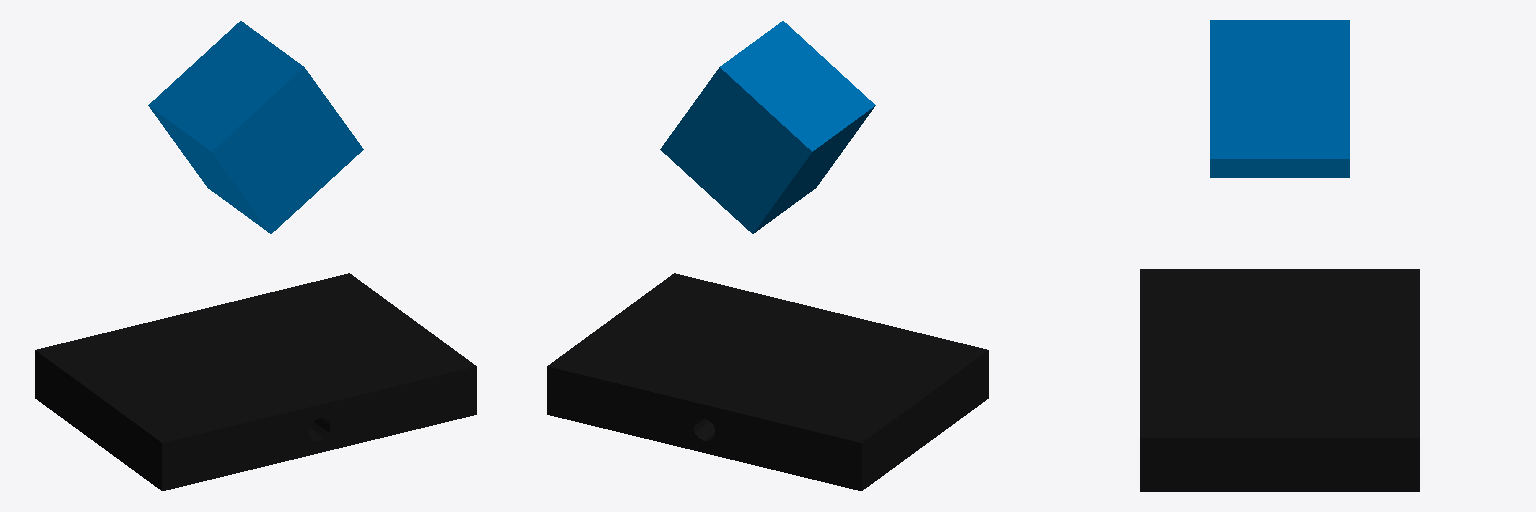
The robot description file, URDF, robot "Sidekick":
<?xml version="1.0" encoding="utf-8"?>
<!-- This URDF was automatically created by SolidWorks to URDF Exporter! Originally created by [author] ([email redacted]) 
     Commit Version: 1.6.0-1-g15f4949  Build Version: 1.6.7594.29634
     For more information, please see http://wiki.ros.org/sw_urdf_exporter -->
<robot
  name="Sidekick">
 <!-- CHASIS-->
 <link name="base_footprint">
    
    <visual>
        <origin xyz="0 0 0" rpy="0 0 0" />
        <geometry>
            <box size="0.001 0.001 0.001" />
        </geometry>
    </visual>
  </link>

  <gazebo reference="base_footprint">
    <turnGravityOff>false</turnGravityOff>
  </gazebo>


<joint name="base_footprint_joint" type="fixed">
    <parent link="base_footprint" />
    <child link="base_link" />
    <origin xyz="0 0 0.04" rpy="0 0 0"/>
</joint> 

  <link
    name="base_link">
    <inertial>
      <origin
        xyz="0.00265800772302817 6.18347628512997E-05 -0.0213674511926631"
        rpy="0 5 0" />
      <mass
        value="0.164729002881636" />
      <inertia
        ixx="6.26281671270997E-05"
        ixy="8.65538923281156E-07"
        ixz="4.53485280575678E-08"
        iyy="9.08258366556841E-05"
        iyz="-5.53309881732439E-10"
        izz="0.000142682581105393" />
    </inertial>
    <visual>
      <origin
        xyz="0 0 0"
        rpy="0 0 0" />
      <geometry>
        <mesh
          filename="package://iiplab/meshes/base_link.STL" />
      </geometry>
      <material
        name="">
        <color
          rgba="0.101960784313725 0.101960784313725 0.101960784313725 1" />
      </material>
    </visual>
    <collision>
      <origin
        xyz="0 0 0"
        rpy="0 0 0" />
      <geometry>
        <mesh
          filename="package://iiplab/meshes/base_link.STL" />
      </geometry>
    </collision>
  </link>
  <link
    name="linkleft">
    <inertial>
      <origin
        xyz="1.07225339718298E-12 0.00134865102675585 2.66814348393041E-13"
        rpy="0 0 0" />
      <mass
        value="0.0123253895510708" />
      <inertia
        ixx="2.61790926238722E-06"
        ixy="5.91025383474373E-17"
        ixz="-2.53921312238284E-17"
        iyy="5.05897911088528E-06"
        iyz="3.2744327105692E-16"
        izz="2.6179092654738E-06" />
    </inertial>
    <visual>
      <origin
        xyz="0 0 0"
        rpy="0 0 0" />
      <geometry>
        <mesh
          filename="package://iiplab/meshes/linkleft.STL" />
      </geometry>
      <material
        name="">
        <color
          rgba="1 1 0 1" />
      </material>
    </visual>
    <collision>
      <origin
        xyz="0 0 0"
        rpy="0 0 0" />
      <geometry>
        <mesh
          filename="package://iiplab/meshes/linkleft.STL" />
      </geometry>
    </collision>
  </link>
  <joint
    name="leftjoint"
    type="continuous">
    <origin
      xyz="-0.00031654 0.048788 -0.0225"
      rpy="0 0 0" />
    <parent
      link="base_link" />
    <child
      link="linkleft" />
    <axis
      xyz="0.0051241 0.99999 0" />
    <limit
      effort="1"
      velocity="1" />
  </joint>
  <link
    name="linkright">
    <inertial>
      <origin
        xyz="1.68573488501522E-12 -0.00134865102793029 -2.99218982924288E-12"
        rpy="0 0 0" />
      <mass
        value="0.0123253895449639" />
      <inertia
        ixx="2.61790926649234E-06"
        ixy="-4.35536860327757E-16"
        ixz="-1.22982047202166E-15"
        iyy="5.0589791120954E-06"
        iyz="4.94787542200678E-16"
        izz="2.61790926265243E-06" />
    </inertial>
    <visual>
      <origin
        xyz="0 0 0"
        rpy="0 0 0" />
      <geometry>
        <mesh
          filename="package://iiplab/meshes/linkright.STL" />
      </geometry>
      <material
        name="">
        <color
          rgba="1 1 0 1" />
      </material>
    </visual>
    <collision>
      <origin
        xyz="0 0 0"
        rpy="0 0 0" />
      <geometry>
        <mesh
          filename="package://iiplab/meshes/linkright.STL" />
      </geometry>
    </collision>
  </link>
  <joint
    name="jointright"
    type="continuous">
    <origin
      xyz="-0.00081654 -0.048788 -0.0225"
      rpy="0 0 0" />
    <parent
      link="base_link" />
    <child
      link="linkright" />
    <axis
      xyz="0.0051241 0.99999 0" />
    <limit
      effort="1"
      velocity="1" />
  </joint>


 <gazebo reference="base_link">
    <material>Gazebo/DarkGrey</material>
  </gazebo>

  <gazebo reference="linkleft">
    <mu1>0.1</mu1>
    <mu2>0.1</mu2>
    <kp>500000.0</kp>
    <kd>10.0</kd>
    <minDepth>0.001</minDepth>
    <maxVel>0.1</maxVel>
    <fdir1>1 0 0</fdir1>
    <material>Gazebo/FlatBlack</material>
  </gazebo>

  <gazebo reference="linkright">
    <mu1>0.1</mu1>
    <mu2>0.1</mu2>
    <kp>500000.0</kp>
    <kd>10.0</kd>
    <minDepth>0.001</minDepth>
    <maxVel>0.1</maxVel>
    <fdir1>1 0 0</fdir1>
    <material>Gazebo/FlatBlack</material>
  </gazebo>
<joint name="hokuyo_joint" type="fixed">
    <parent link="base_link" />
    <child link="hokuyo_link" />
    <origin xyz="0 0 0.1" />
</joint>

<link name="hokuyo_link" >
    
    <visual>
        <origin xyz="0 0 0" rpy="0 1 0" />
        <geometry>
            <box size="0.05 0.05 0.05"/>
        </geometry>
      <material name="Blue" />
    </visual>

</link>


<gazebo reference="hokuyo_link">
    <material>Gazebo/Blue</material>
    <turnGravityOff>false</turnGravityOff>
    <sensor type="ray" name="head_hokuyo_sensor">
      <pose>2 2 2 2 2 2</pose>
      <visualize>true</visualize>
      <update_rate>40</update_rate>
      <ray>
        <scan>
          <horizontal>
            <samples>720</samples>
            <resolution>1</resolution>
            <min_angle>-1.570796</min_angle>
            <max_angle>1.570796</max_angle>
          </horizontal>
        </scan>
        <range>
          <min>0.10</min>
          <max>10.0</max>
          <resolution>0.001</resolution>
        </range>
      </ray>
      <plugin name="gazebo_ros_head_hokuyo_controller" filename="libgazebo_ros_laser.so">
        <topicName>/scan</topicName>
        <frameName>hokuyo_link</frameName>
      </plugin>
    </sensor>
</gazebo>

  <!-- Differential drive controller  -->
<gazebo>
    <plugin name="differential_drive_controller" filename="libgazebo_ros_diff_drive.so">

      <rosDebugLevel>Debug</rosDebugLevel>
      <publishWheelTF>false</publishWheelTF>
      <robotNamespace>/</robotNamespace>
      <publishTf>1</publishTf>
      <publishWheelJointState>false</publishWheelJointState>
      <alwaysOn>true</alwaysOn>
      <updateRate>100.0</updateRate>
      <leftJoint>leftjoint</leftJoint>
      <rightJoint>jointright</rightJoint>
      <wheelSeparation>0.2</wheelSeparation>
      <wheelDiameter>0.2</wheelDiameter>
      <broadcastTF>1</broadcastTF>
      <wheelTorque>30</wheelTorque>
      <wheelAcceleration>1.8</wheelAcceleration>
      <commandTopic>cmd_vel</commandTopic>
      <odometryFrame>odom</odometryFrame> 
      <odometryTopic>odom</odometryTopic> 
      <odometrySource>1</odometrySource>
      <publishOdomTF>true</publishOdomTF>
      <robotBaseFrame>base_footprint</robotBaseFrame>
      
    </plugin>
</gazebo> 

</robot>

--- Render facts (derived) ---
Views: 3 orthographic renders of the robot side by side, from view 1: azimuth 30°, elevation 25°; view 2: azimuth 150°, elevation 25°; view 3: azimuth 270°, elevation 25°.
Robot: Sidekick — 5 links, 4 joints (2 continuous, 2 fixed); root link base_footprint; default pose: all joints at 0.
Visible links, largest first — view 1: base_link, hokuyo_link; view 2: base_link, hokuyo_link; view 3: base_link, hokuyo_link.
Link boxes in pixels (<box>): base_link: <box>35,273,476,490</box>; hokuyo_link: <box>148,21,363,233</box>; base_link: <box>547,273,988,490</box>; hokuyo_link: <box>660,21,875,233</box>; base_link: <box>1140,269,1419,491</box>; hokuyo_link: <box>1210,20,1349,177</box>.
Size in the robot's own frame: 0.1428 by 0.1 by 0.175 metres.
Meshes: 3 distinct files referenced, 1 mesh visuals loaded (1 binary STL); not drawn: 2 (reference not matched to a file when rendering).
